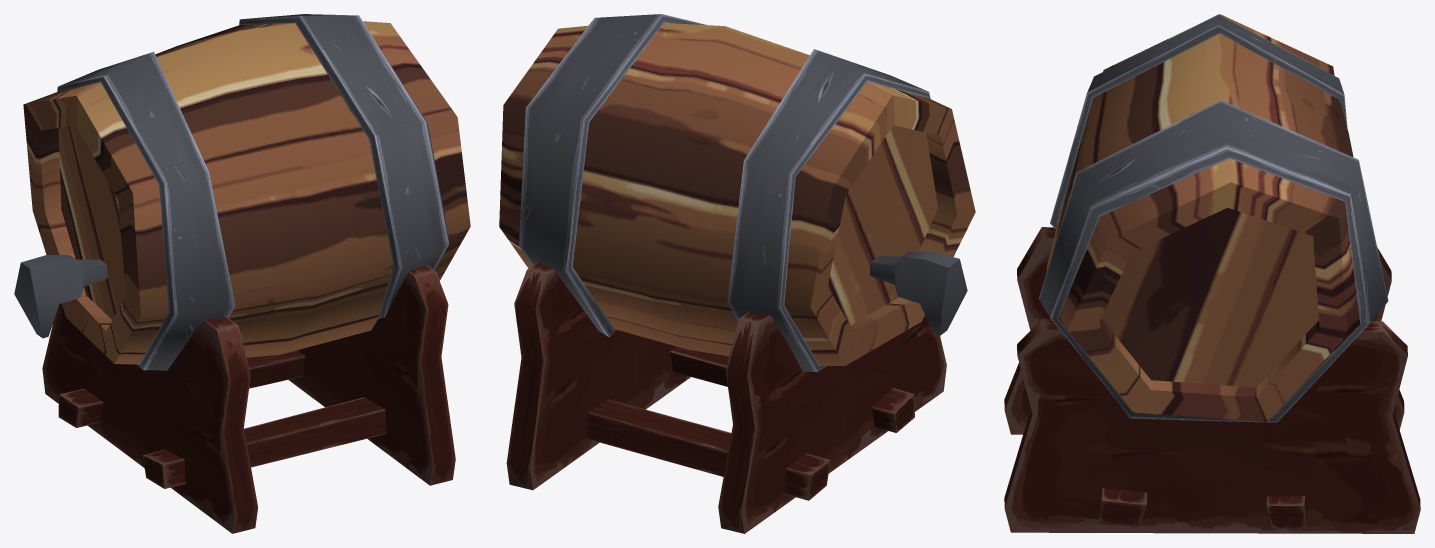
Rendered from tonneau-3.glb.
The picture shows the model from 3 angles, left to right: view 1: azimuth 30°, elevation 25°; view 2: azimuth 150°, elevation 25°; view 3: azimuth 270°, elevation 25°; orthographic projection. The views are drawn at different scales.
Visible parts, largest first — view 1: SM_PROP_barrel_08; view 2: SM_PROP_barrel_08; view 3: SM_PROP_barrel_08.
Part boxes in pixels (bbox=[...]): SM_PROP_barrel_08: bbox=[14, 14, 470, 533]; SM_PROP_barrel_08: bbox=[499, 14, 975, 533]; SM_PROP_barrel_08: bbox=[1004, 14, 1420, 533].
Size of the model in its own units: 1.04 by 1.05 by 0.9651.
Materials: 3 (3 with a texture image).
